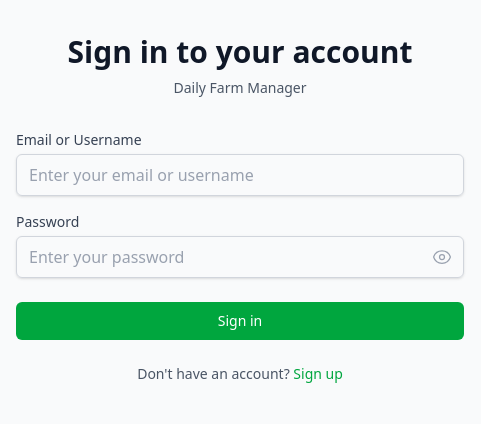
Test: Login Flow › should show validation errors for empty fields
Click the submit button at (240, 321), box x1=16 y1=302 x2=464 y2=340
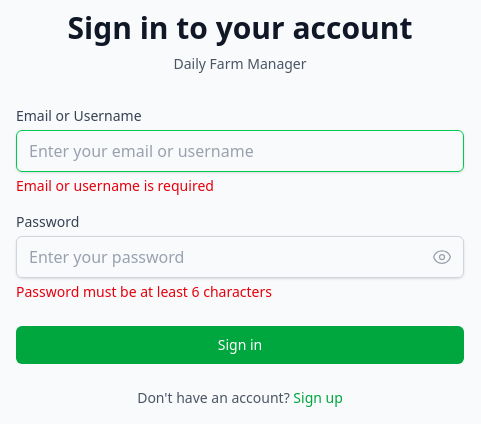
Expected: the text "Email or username is required" is shown, x1=16 y1=176 x2=214 y2=195
Expected: the text "Password must be at least 6 characters" is shown, x1=16 y1=282 x2=272 y2=301
